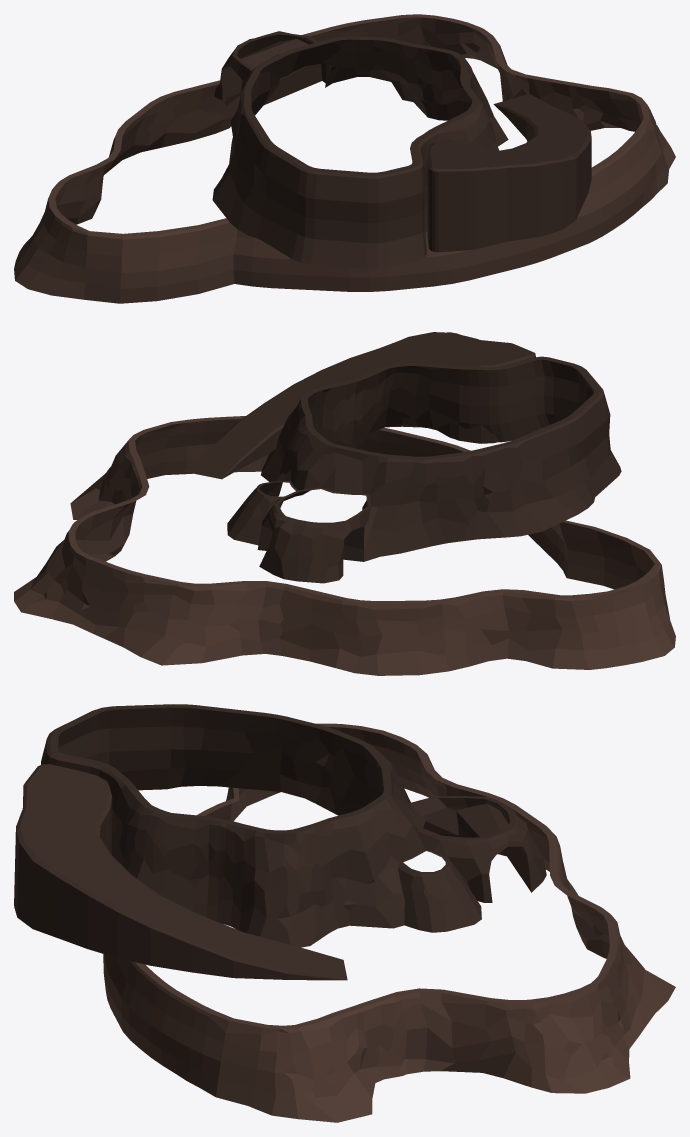
Rendered from Mountains.glb.
3 renders of one model, top to bottom at view 1: azimuth 30°, elevation 25°; view 2: azimuth 150°, elevation 25°; view 3: azimuth 270°, elevation 25°, orthographic. The views are drawn at different scales.
Parts seen in each view (by area): view 1: Mprop.001, Mprop.002, Mprop; view 2: Mprop.001, Mprop.002, Mprop; view 3: Mprop.002, Mprop.001, Mprop.
Part boxes in pixels (x1,y1,x2,y2): Mprop.001: (14,14,675,303); Mprop.002: (212,31,508,268); Mprop: (427,93,591,252); Mprop.001: (14,416,675,675); Mprop.002: (227,356,621,583); Mprop: (184,332,535,479); Mprop.002: (41,704,546,947); Mprop.001: (103,723,675,1122); Mprop: (14,764,347,980).
Size of the model in its own units: 19.77 by 4.53 by 16.01.
